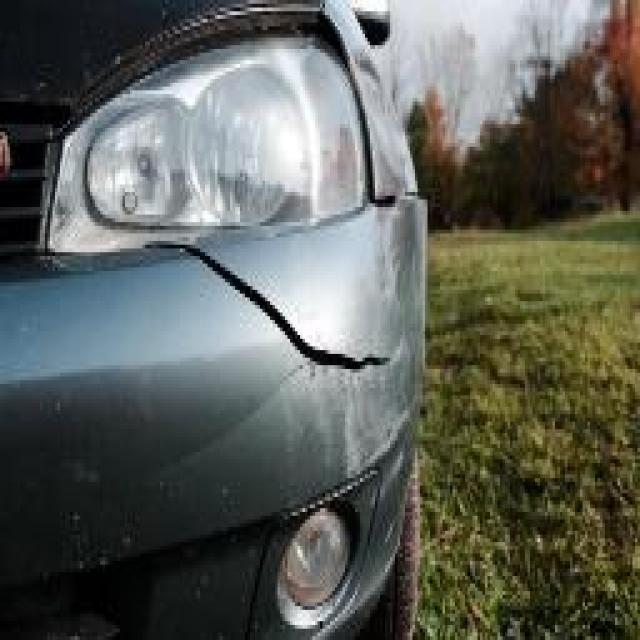Bumper: (0, 215, 485, 632)
Fender: (330, 0, 435, 211)
